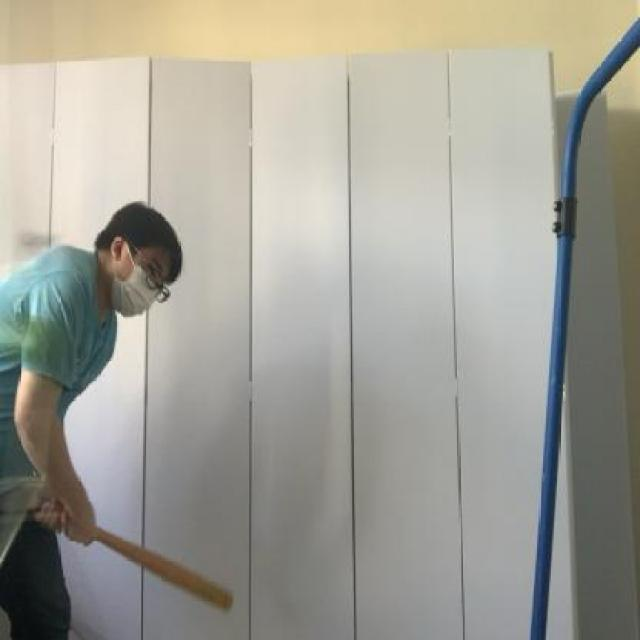baseball: (11, 301, 63, 381)
